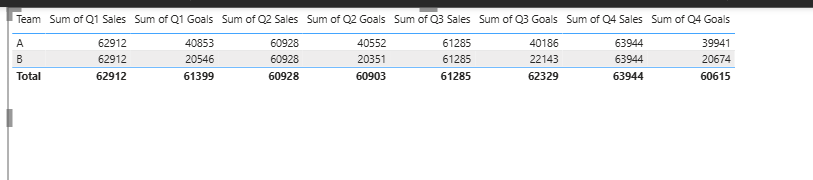

What the dashboard file says about the page in this screenshot:
{"tool":"powerbi","page":{"name":"Page 1","canvas":[1280,720],"ordinal":0},"visuals":[{"type":"tableEx","fields":{"Values":["Goals.Territory","Goals.Product","Goals.CummulativeGoals","Sum(Sales.CummulativeSales)","Sales.Attainment%"]},"box":[9.4,0,999.7,720],"z":0}]}

Visuals, with their boxes on the page's 1280x720 design canvas (x1, y1, x2, y2). These are canvas units, not pixel positions in the 813x180 screenshot, which may show the page scaled, cropped or inside an application window:
tableEx - Goals.Territory x Goals.Product: box(9, 0, 1009, 720)
